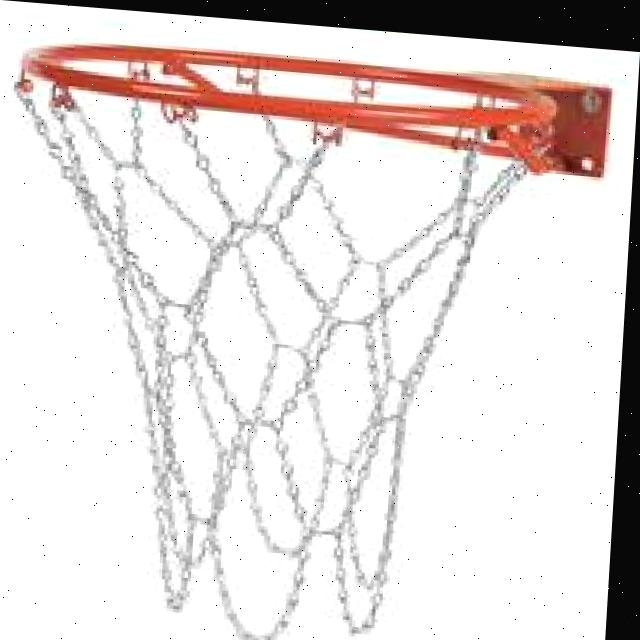hoop: (0, 26, 630, 640)
